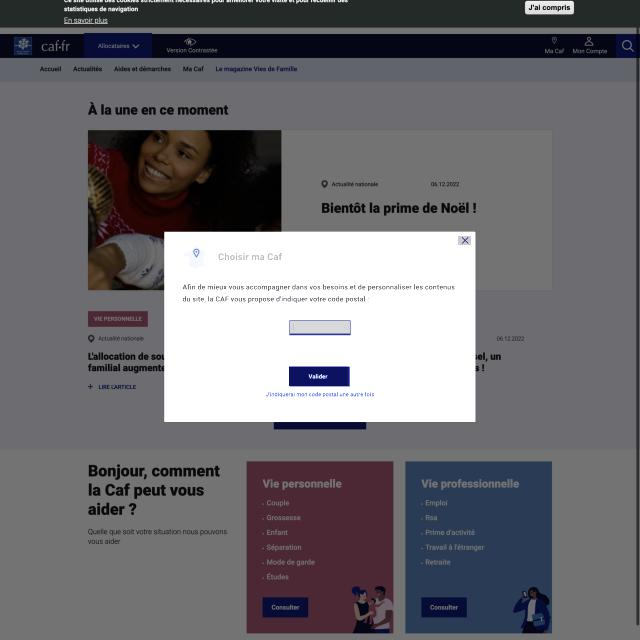CheckBox: (290, 366, 350, 386), (265, 389, 376, 398)
CheckedTextView: (290, 320, 350, 335)
Input field: (181, 281, 458, 303)
breadcrumbs: (216, 250, 282, 263)
carousel: (458, 236, 471, 245)
header: (164, 231, 475, 422)
